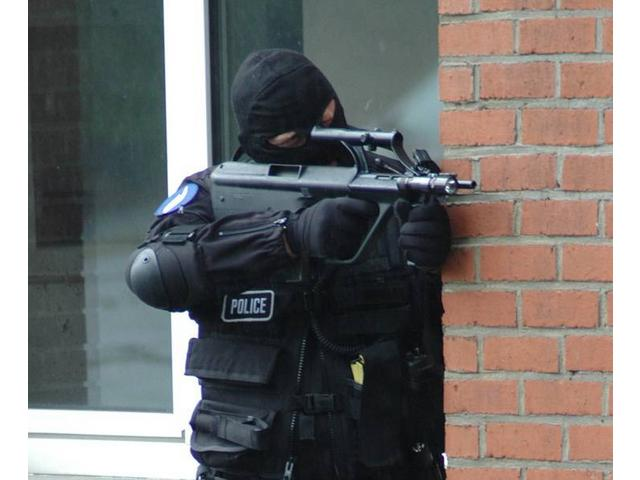rifle: (205, 153, 476, 287)
